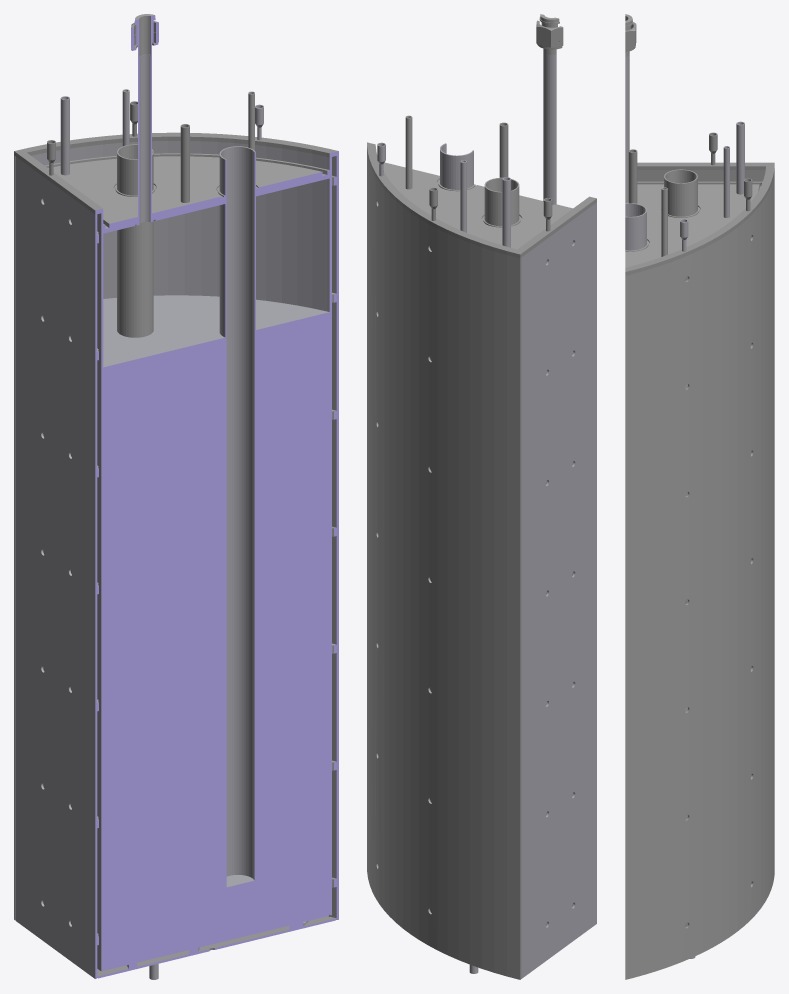
The model's file is libra_pi_cutaway.glb.
3 views of the same model, side by side, from view 1: azimuth 30°, elevation 25°; view 2: azimuth 150°, elevation 25°; view 3: azimuth 270°, elevation 25° (orthographic). The views are drawn at different scales.
Visible parts, largest first — view 1: geometry_1, geometry_23, geometry_13, geometry_76, geometry_15, geometry_0, geometry_56, geometry_27, geometry_74, geometry_25, geometry_14, geometry_24 (+8 smaller); view 2: geometry_27, geometry_23, geometry_15, geometry_25, geometry_10, geometry_56, geometry_13, geometry_6, geometry_67, geometry_65, geometry_72; view 3: geometry_27, geometry_15, geometry_25, geometry_56, geometry_13, geometry_74, geometry_10, geometry_67, geometry_72, geometry_64, geometry_65.
Part boxes in pixels (<box>): geometry_1: <box>103,312,329,968</box>; geometry_23: <box>15,157,95,978</box>; geometry_13: <box>219,146,255,887</box>; geometry_76: <box>31,141,330,915</box>; geometry_15: <box>45,153,329,228</box>; geometry_0: <box>103,295,329,367</box>; geometry_56: <box>117,144,153,337</box>; geometry_27: <box>14,155,336,919</box>; geometry_74: <box>97,213,101,970</box>; geometry_25: <box>14,132,338,214</box>; geometry_14: <box>225,152,255,888</box>; geometry_24: <box>95,214,97,978</box>; geometry_27: <box>367,151,520,979</box>; geometry_23: <box>521,202,596,978</box>; geometry_15: <box>383,162,572,249</box>; geometry_25: <box>367,142,596,258</box>; geometry_10: <box>543,52,556,204</box>; geometry_56: <box>484,177,519,226</box>; geometry_13: <box>440,143,473,189</box>; geometry_6: <box>536,20,563,49</box>; geometry_67: <box>502,177,510,247</box>; geometry_65: <box>405,115,412,189</box>; geometry_72: <box>499,122,508,177</box>; geometry_27: <box>625,172,774,979</box>; geometry_15: <box>625,181,762,267</box>; geometry_25: <box>625,162,774,275</box>; geometry_56: <box>664,169,697,216</box>; geometry_13: <box>625,203,646,250</box>; geometry_74: <box>637,170,765,181</box>; geometry_10: <box>625,55,629,203</box>; geometry_67: <box>736,121,744,194</box>; geometry_72: <box>628,149,637,203</box>; geometry_64: <box>723,146,729,217</box>; geometry_65: <box>661,187,667,256</box>.
Size of the model in its own units: 0.3876 by 1.52 by 0.2238.
